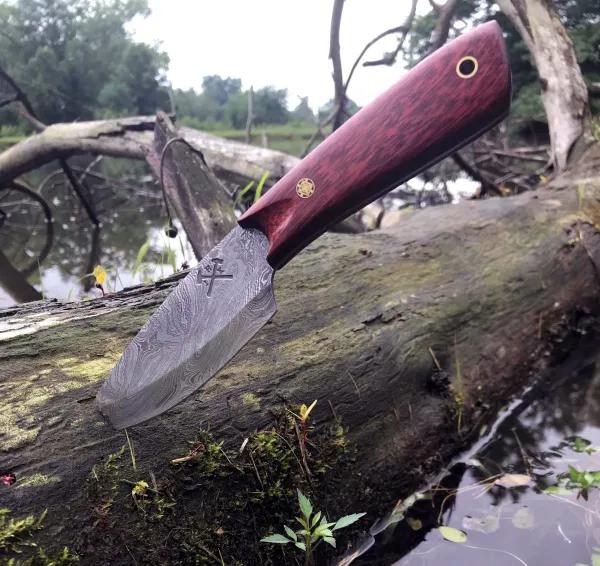knife: (91, 4, 529, 450)
